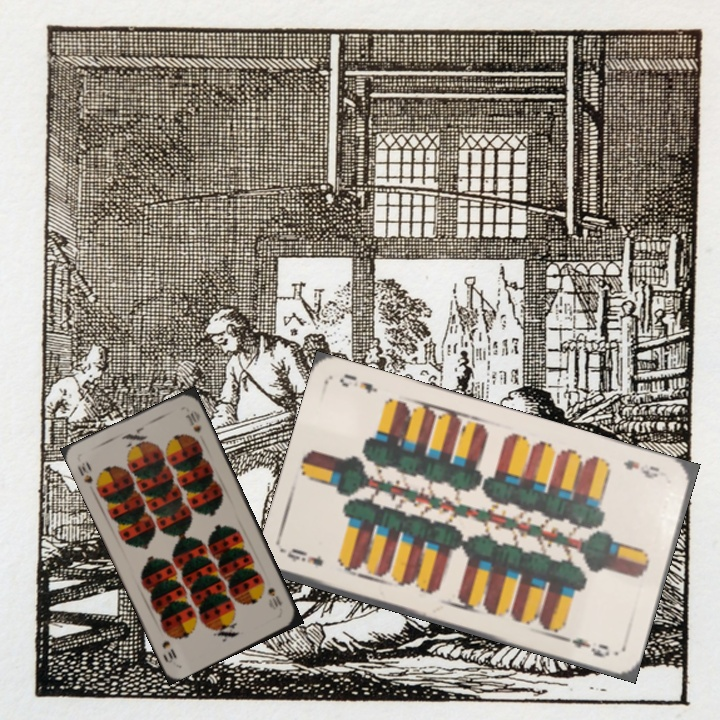E9: (619, 455, 662, 482), (283, 544, 326, 569)
S10: (73, 457, 95, 486), (264, 583, 284, 609)
